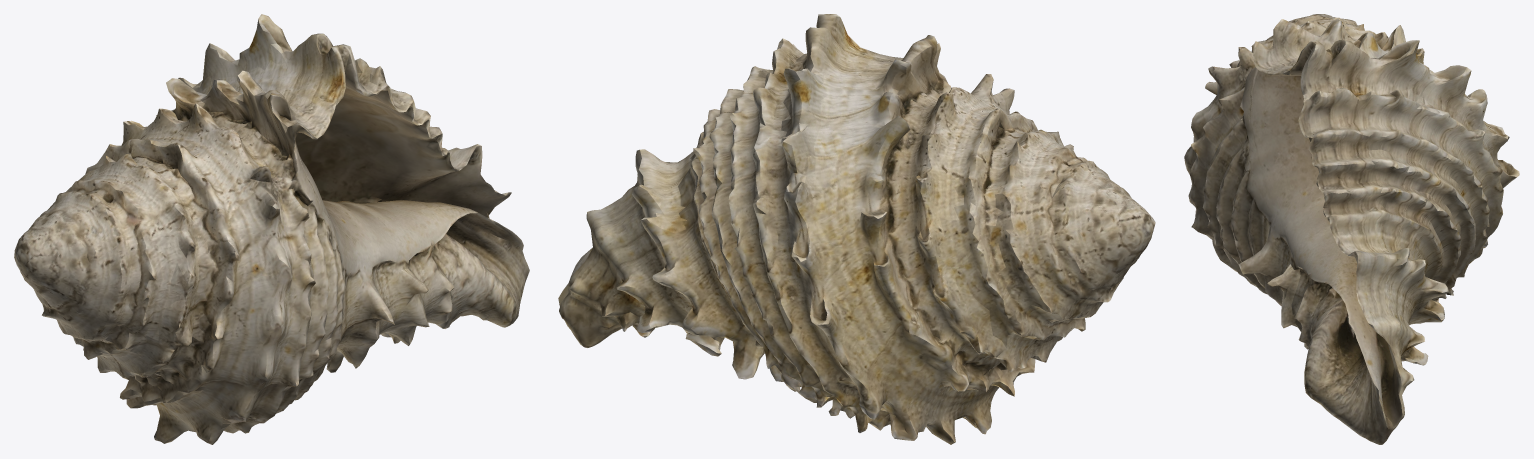
Rendered from shell.glb.
3 views of the same model, side by side, from view 1: azimuth 30°, elevation 25°; view 2: azimuth 150°, elevation 25°; view 3: azimuth 270°, elevation 25° (orthographic). The views are drawn at different scales.
Visible parts, largest first — view 1: Object_2, Object_3; view 2: Object_2, Object_3; view 3: Object_2, Object_3.
Part boxes in pixels (left/top/right/bottom): Object_2: left=14, top=14, right=529, bottom=444; Object_3: left=67, top=19, right=481, bottom=443; Object_2: left=559, top=14, right=1155, bottom=444; Object_3: left=558, top=37, right=1090, bottom=443; Object_2: left=1184, top=14, right=1519, bottom=444; Object_3: left=1250, top=38, right=1447, bottom=429.
Bounding box in the file's own units: 47.11 × 29.86 × 28.04.
Materials: 2 (2 with a texture image).
